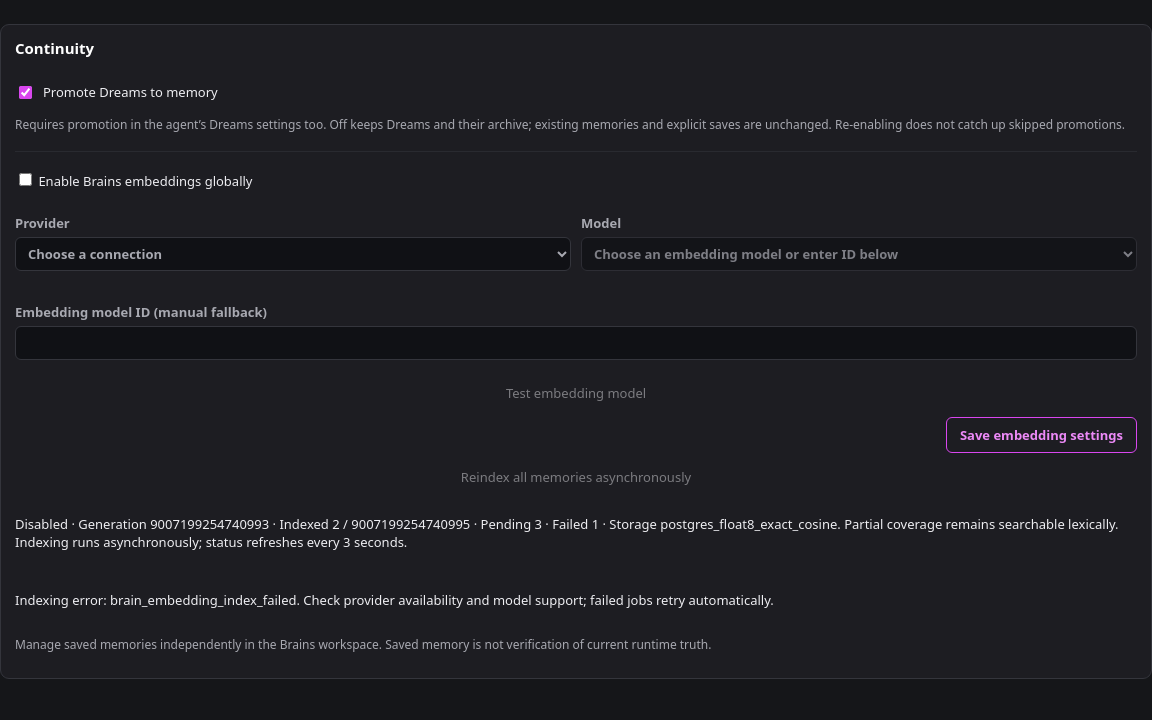
Brain embedding settings › fences a deferred poll against save and the returned generation
Expected: the dropdown labelled "Provider" is enabled, top-left (15, 237), bottom-right (571, 271)
Click the button "Save embedding settings" at [1042, 435], box top-left (946, 417), bottom-right (1137, 453)
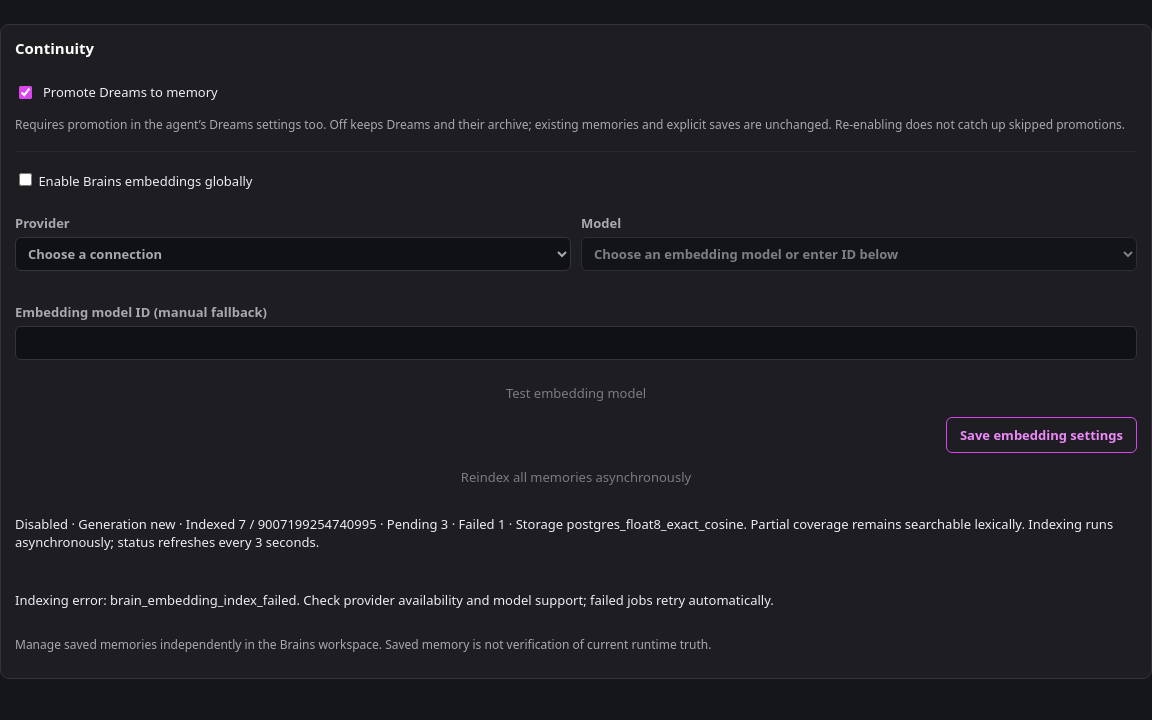
Expected: the text "Generation new" shows "Indexed 7", top-left (15, 514), bottom-right (1137, 551)
